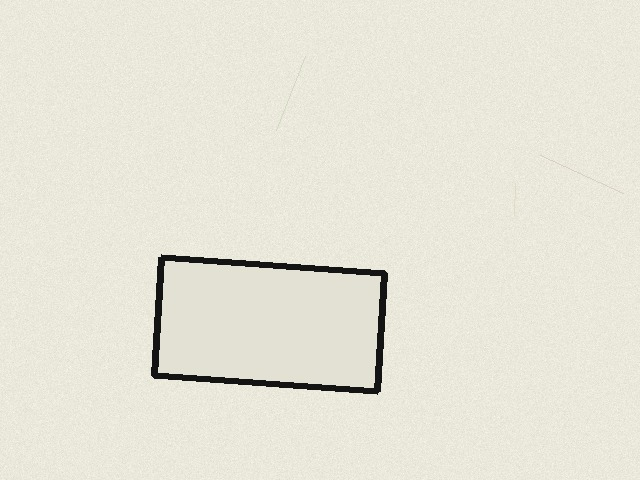parking_area: (154, 257, 384, 391)
